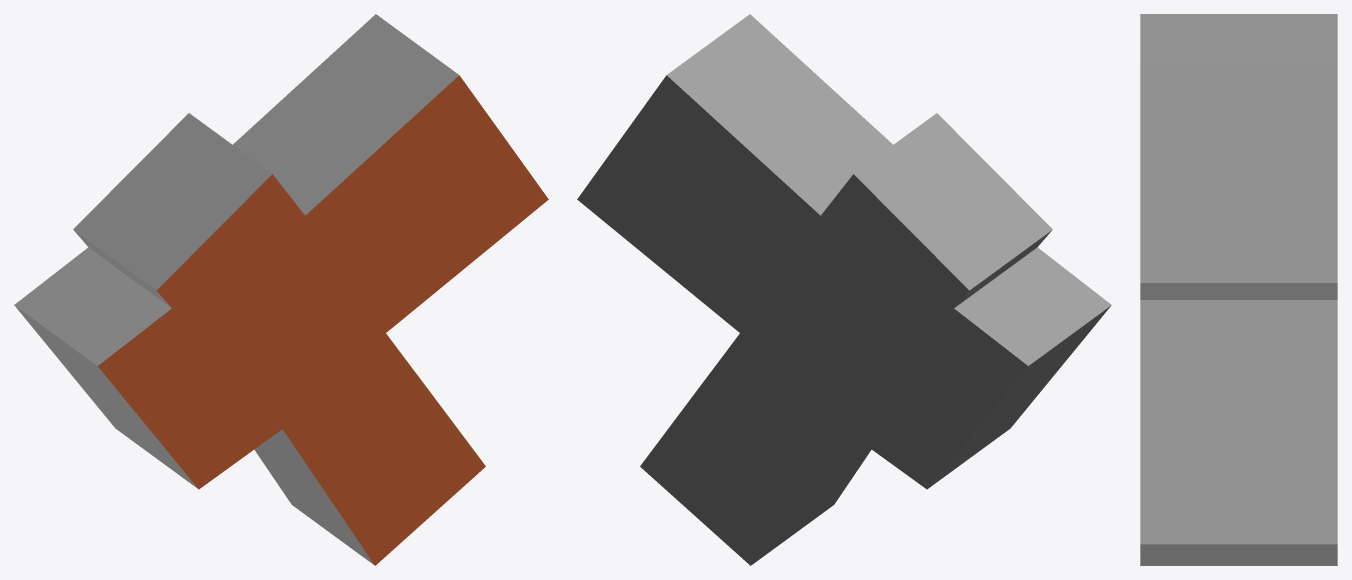
Rendered from construction_4657_assumed_A_Casa_h6m.obj.
The picture shows the model from 3 angles, left to right: view 1: azimuth 30°, elevation 25°; view 2: azimuth 150°, elevation 25°; view 3: azimuth 270°, elevation 25°; orthographic projection. The views are drawn at different scales.
Parts seen in each view (by area): view 1: construction_4657_assumed_A_Casa; view 2: construction_4657_assumed_A_Casa; view 3: construction_4657_assumed_A_Casa.
Part boxes in pixels (bbox=[...]): construction_4657_assumed_A_Casa: bbox=[14, 14, 548, 565]; construction_4657_assumed_A_Casa: bbox=[577, 14, 1111, 565]; construction_4657_assumed_A_Casa: bbox=[1140, 14, 1337, 565].
Bounding box in the file's own units: 18.72 × 18.64 × 6.
